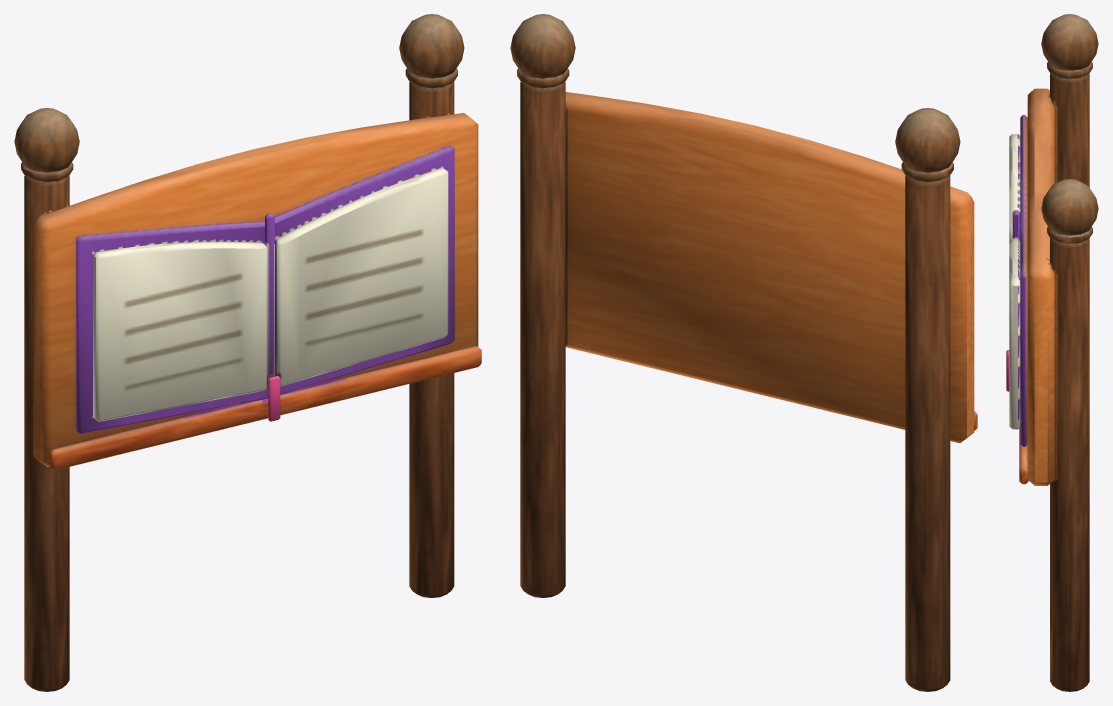
The model's file is reading_board.glb.
3 renders of one model, left to right at view 1: azimuth 30°, elevation 25°; view 2: azimuth 150°, elevation 25°; view 3: azimuth 270°, elevation 25°, orthographic. The views are drawn at different scales.
Visible parts, largest first — view 1: reading_board_game; view 2: reading_board_game; view 3: reading_board_game.
Boxes of the visible parts, x1=… form: reading_board_game: x1=14, y1=14, x2=481, y2=691; reading_board_game: x1=510, y1=14, x2=977, y2=691; reading_board_game: x1=1006, y1=14, x2=1098, y2=691.
Bounding box in the file's own units: 1.17 × 1.45 × 0.241.
Materials: 1 (1 with a texture image).
